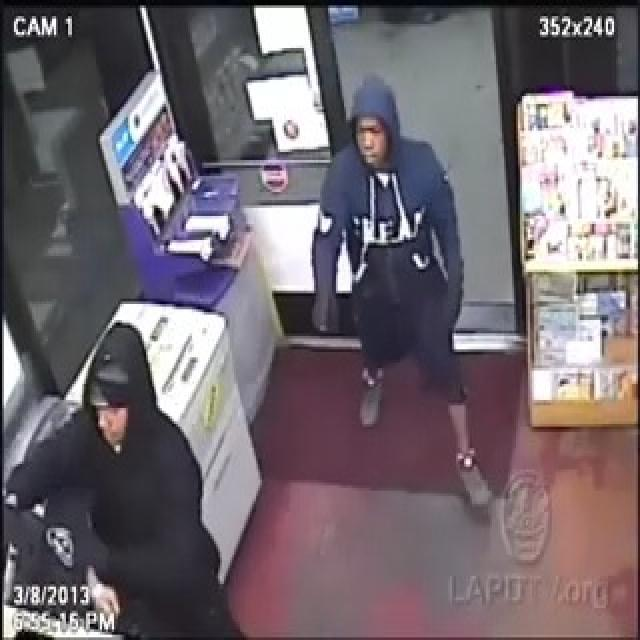Shoplifting: (0, 208, 216, 640)
